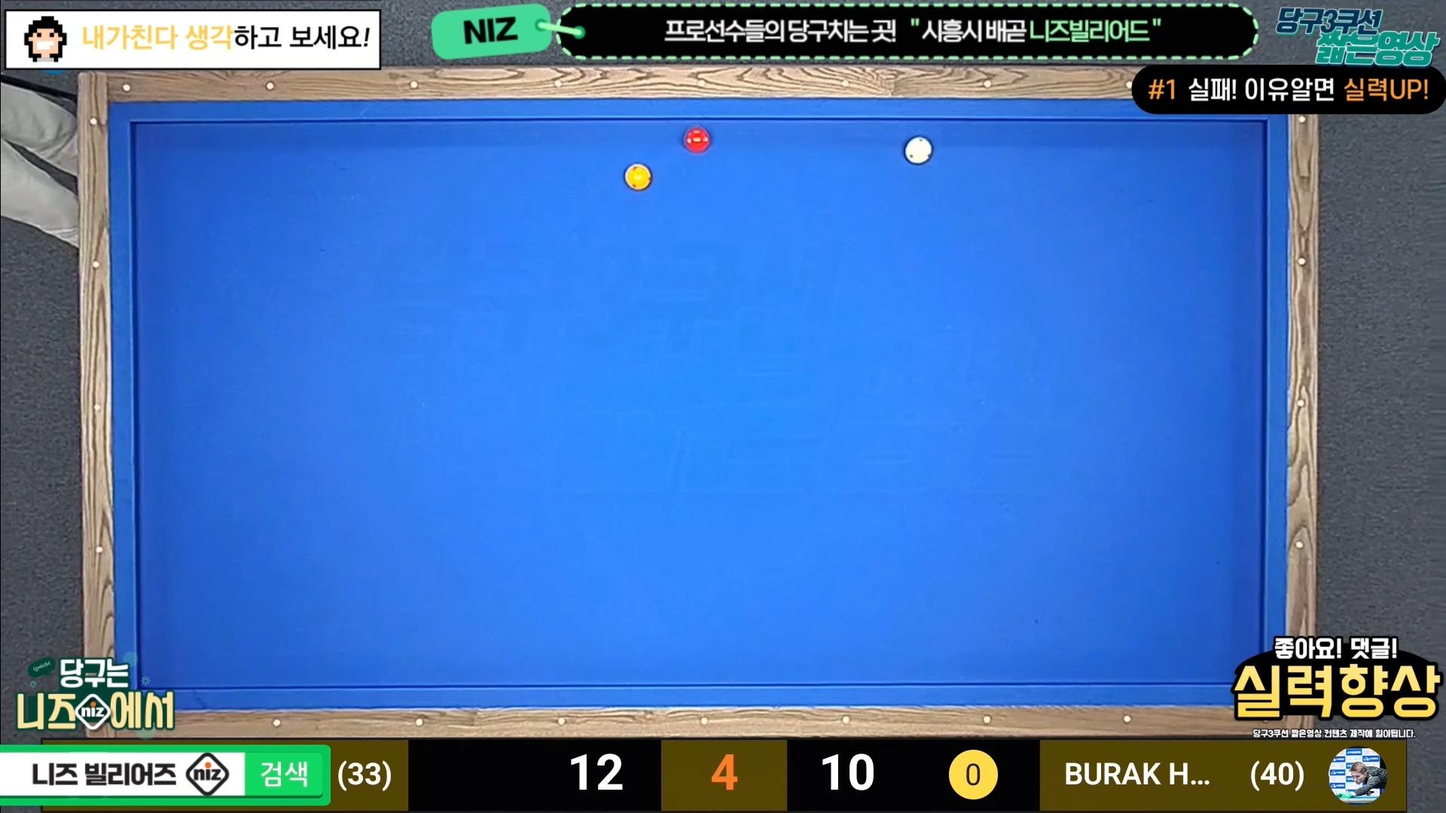-billiard-ball: (903, 135, 933, 165), (623, 163, 651, 191)
Red: (684, 127, 716, 155)
White: (905, 136, 939, 165)
Yellow: (624, 163, 655, 193)
